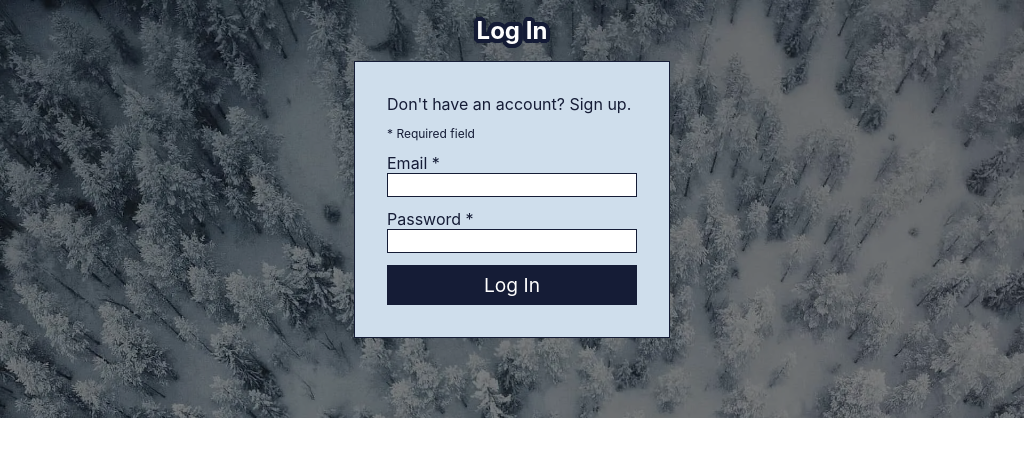
Test case: Displays error message on unsuccessful, but not unauthorized login attempt
Click the button "Log In" at (512, 285), box [387,265,637,305]
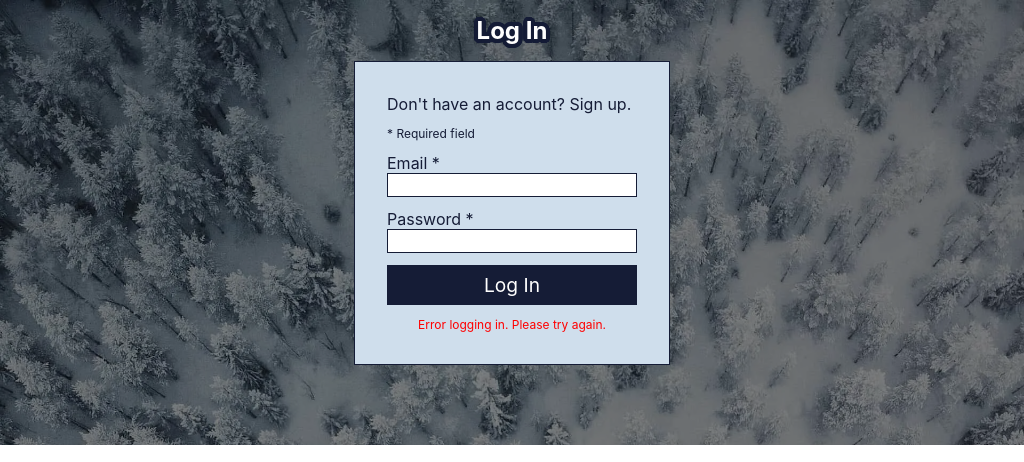
Check: the text "Error logging in. Please try again." is shown, box [418,317,606,332]
